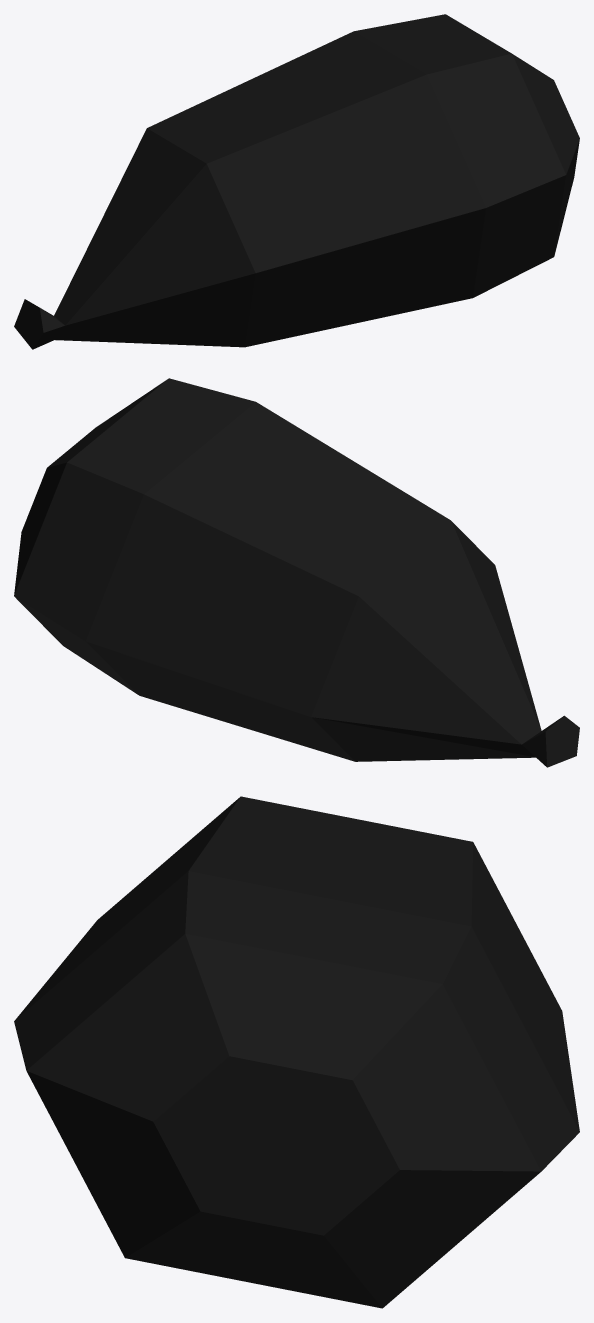
The model's file is model_worek_smieci.fbx.
3 renders of one model, top to bottom at view 1: azimuth 30°, elevation 25°; view 2: azimuth 150°, elevation 25°; view 3: azimuth 270°, elevation 25°, orthographic. The views are drawn at different scales.
Visible parts, largest first — view 1: smieci_wore; view 2: smieci_wore; view 3: smieci_wore.
Part boxes in pixels (<box>): smieci_wore: <box>14,14,579,349</box>; smieci_wore: <box>14,378,579,767</box>; smieci_wore: <box>14,796,579,1308</box>.
Bounding box in the file's own units: 93.06 × 71.58 × 152.
